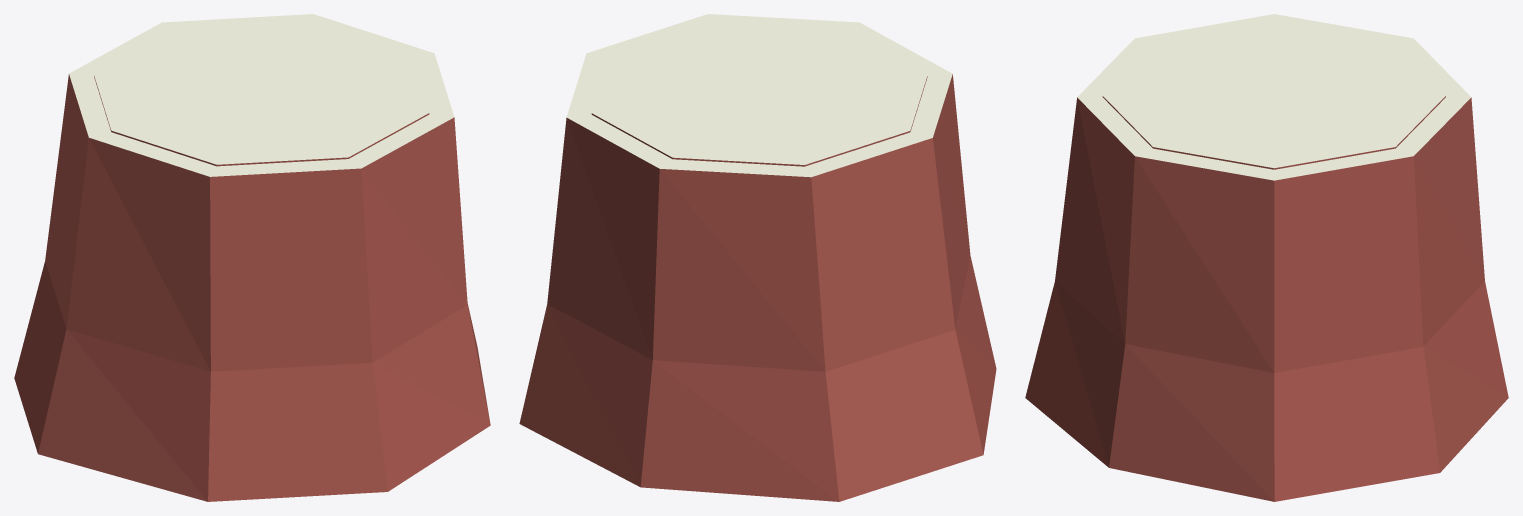
The model's file is Stump6_winter.FBX.
The picture shows the model from 3 angles, left to right: view 1: azimuth 30°, elevation 25°; view 2: azimuth 150°, elevation 25°; view 3: azimuth 270°, elevation 25°; orthographic projection.
Visible parts, largest first — view 1: Object; view 2: Object; view 3: Object.
Part boxes in pixels (left/top/right/bottom): Object: left=14, top=14, right=490, bottom=501; Object: left=519, top=14, right=996, bottom=501; Object: left=1025, top=14, right=1508, bottom=501.
Size of the model in its own units: 0.9217 by 0.6128 by 0.8889.
